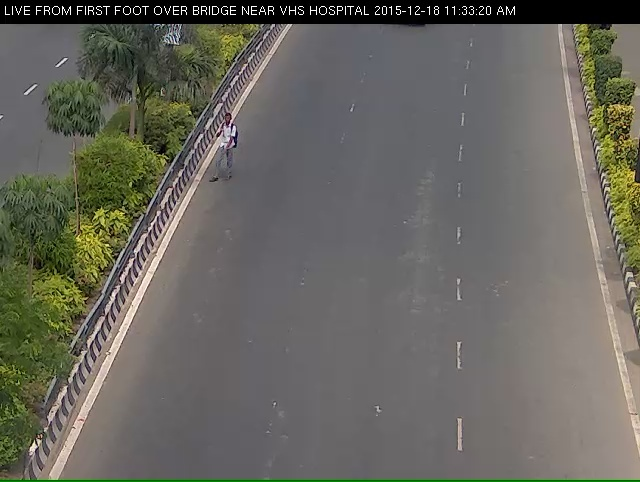Person: (211, 111, 235, 200)
